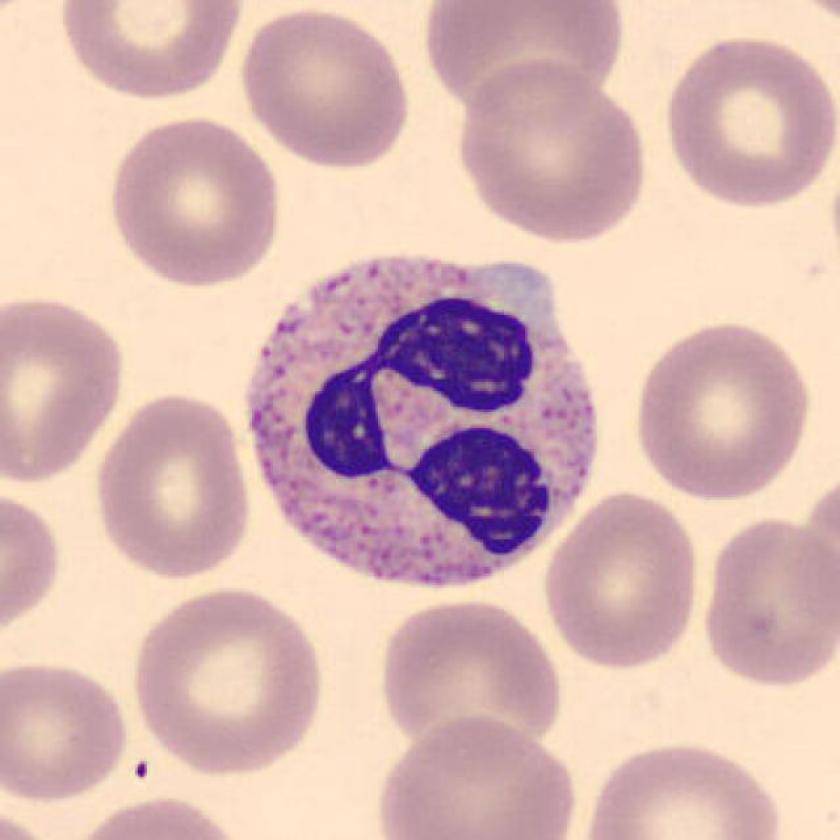neutrophil: (246, 259, 597, 587)
